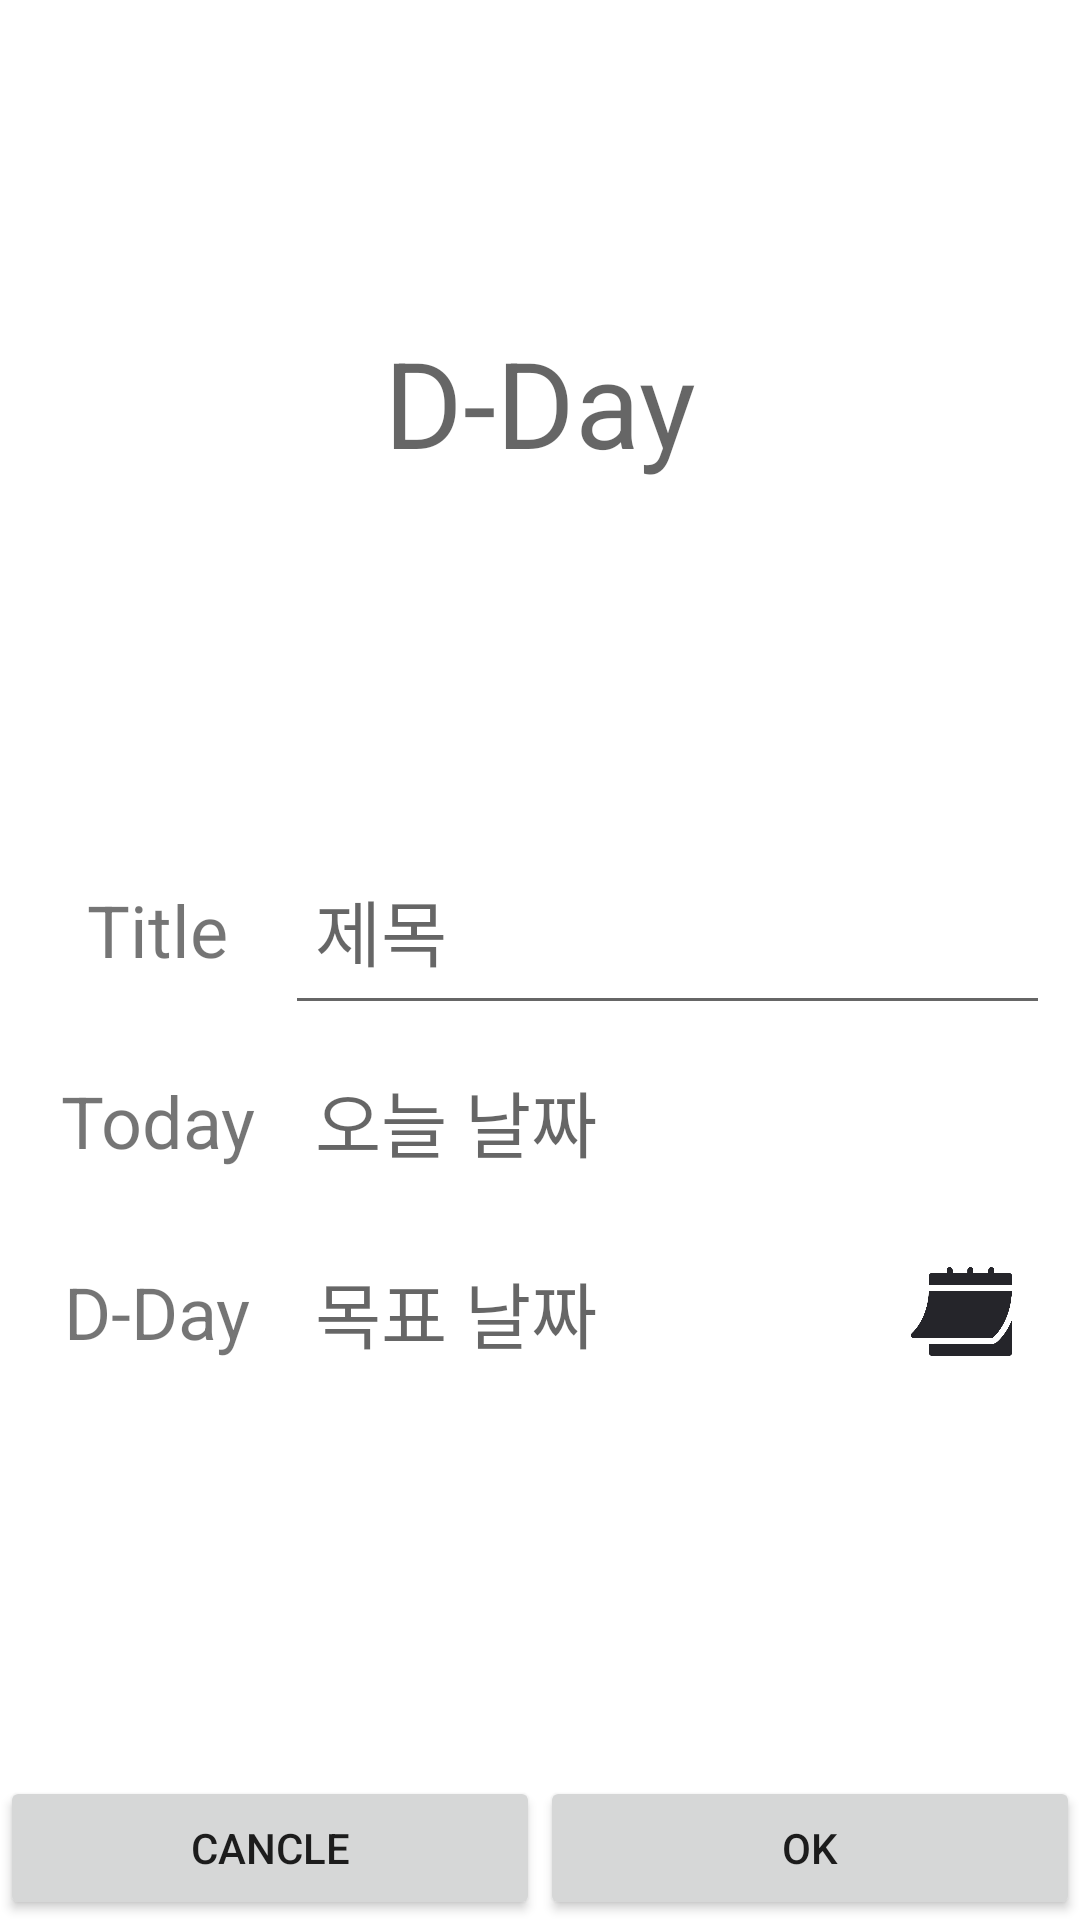

Where icons sit on this 1080px×1920px app screen, as [x1,y1,x2,y2]:
calendar: [911,1267,1012,1356]
